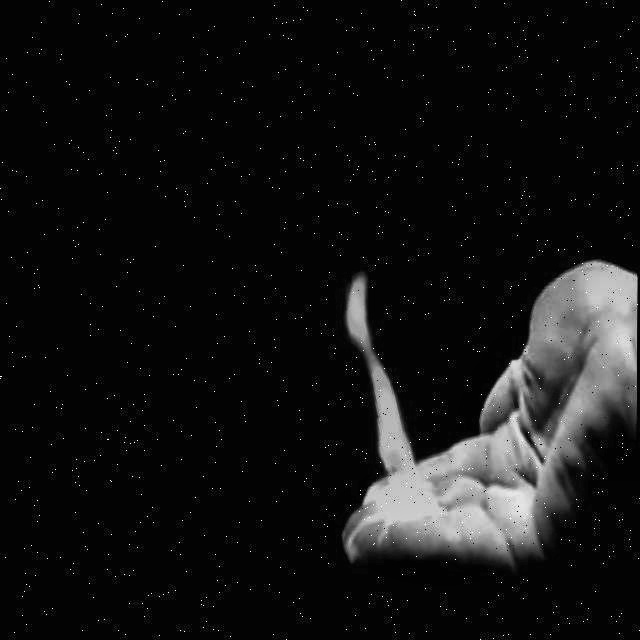Fire: (324, 256, 435, 517)
